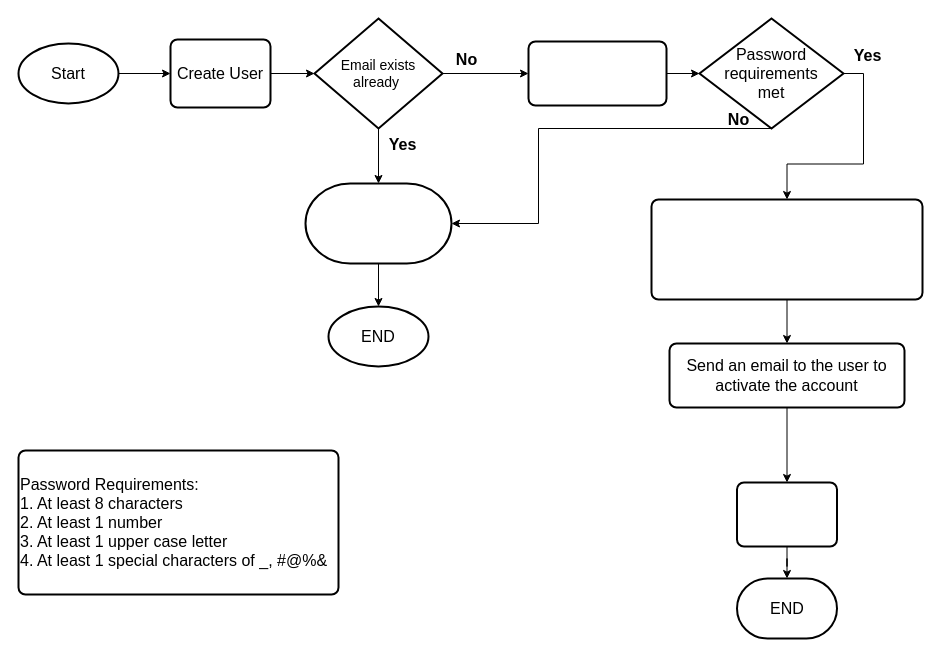
Some shapes in this 940 by 656 pixel diagram are drawn without their labels. The centre of each missing label's shape, as x and y in pixels:
Check password requirements: (597,73)
Encrypt the password Generate the ActivationId Store the user in Amazon RDS: (786,249)
Respond with 200: (787,514)
Respond with Bad Request: (378,223)
